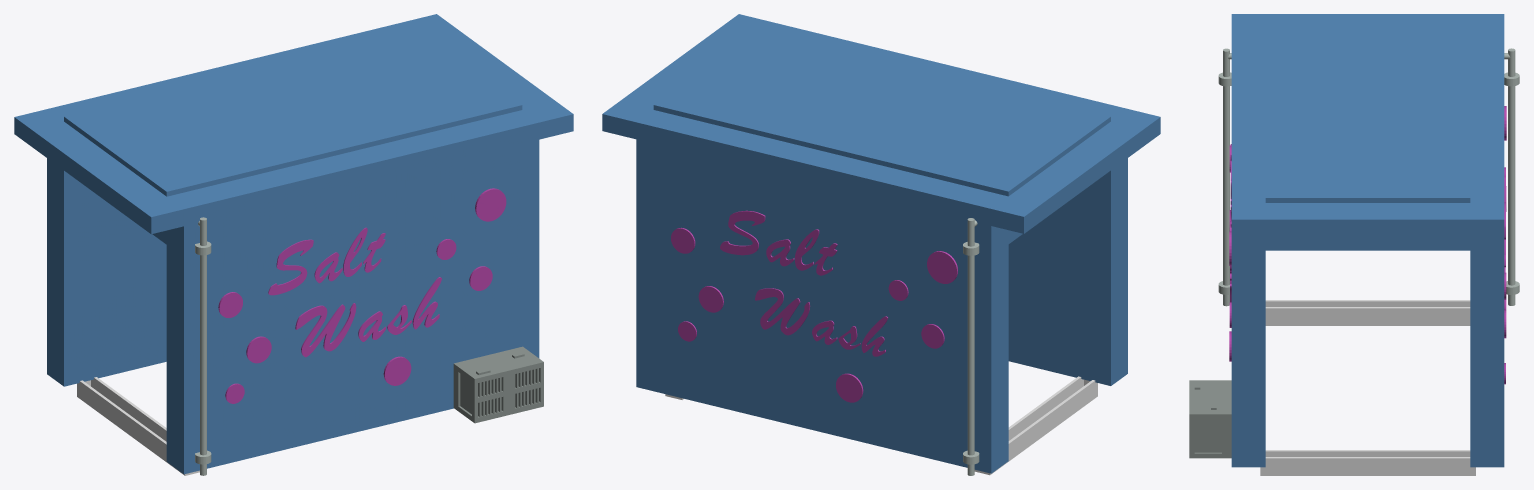
File: las_stage.gltf
3 renders of one model, left to right at view 1: azimuth 30°, elevation 25°; view 2: azimuth 150°, elevation 25°; view 3: azimuth 270°, elevation 25°, orthographic.
Visible parts, largest first — view 1: Wash, Cube; view 2: Wash, Cube; view 3: Wash, Cube.001, Cube.
Boxes of the visible parts, <box> form: Wash: <box>14,14,573,475</box>; Cube: <box>77,377,199,475</box>; Wash: <box>602,14,1160,475</box>; Cube: <box>974,376,1097,475</box>; Wash: <box>1189,14,1519,467</box>; Cube.001: <box>1260,450,1475,475</box>; Cube: <box>1265,300,1470,325</box>.
Size of what is drawn, in the model's own units: 4.11 by 2.66 by 2.79.
